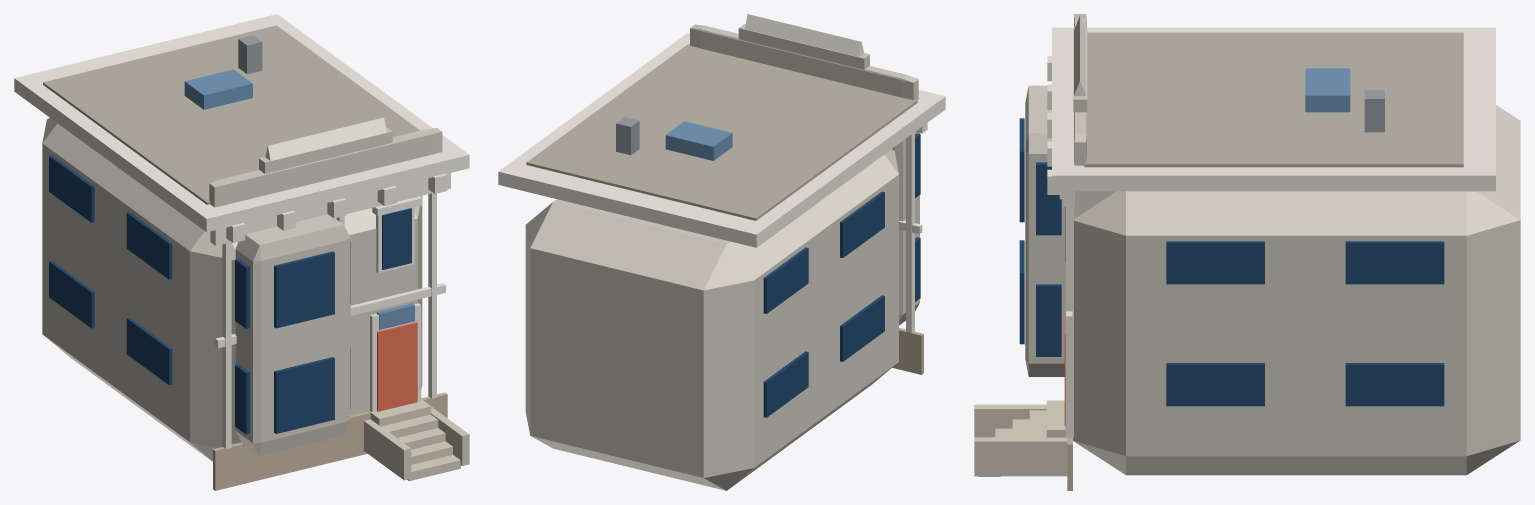
The model's file is stick_w7_false.glb.
3 views of the same model, side by side, from view 1: azimuth 30°, elevation 25°; view 2: azimuth 150°, elevation 25°; view 3: azimuth 270°, elevation 25° (orthographic). The views are drawn at different scales.
Parts seen in each view (by area): view 1: walls, roofslab, corn, bay, fp, bsmt, bw.001, bw, door, frieze, roof, skylt (+23 smaller); view 2: walls, roofslab, corn, fp, roof, skylt, sb.002, sb.006, sb, sb.004, fp2, stick.003 (+4 smaller); view 3: walls, roofslab, corn, bay, sb.003, sb.007, sb.001, sb.005, cheek.001, skylt, stick.002, bws.001 (+8 smaller).
Part boxes in pixels (x1,y1,x2,y2): walls: (42,118,422,461); roofslab: (43,25,419,204); corn: (14,14,469,232); bay: (235,214,350,456); fp: (209,128,442,207); bsmt: (213,392,447,490); bw.001: (274,251,334,328); bw: (274,357,334,433); door: (377,322,417,411); frieze: (210,173,450,245); roof: (265,117,386,160); skylt: (184,69,252,109); walls: (525,149,898,490); roofslab: (526,44,917,220); corn: (498,33,945,247); fp: (690,24,918,100); roof: (745,14,863,56); skylt: (665,121,732,160); sb.002: (763,351,808,417); sb.006: (763,247,808,313); sb: (840,295,884,361); sb.004: (840,191,884,257); fp2: (738,24,869,69); stick.003: (906,132,914,333); walls: (1073,105,1520,475); roofslab: (1084,32,1463,167); corn: (1052,27,1495,191); bay: (1025,85,1065,376); sb.003: (1345,363,1444,406); sb.007: (1345,241,1444,284); sb.001: (1166,363,1264,406); sb.005: (1166,241,1264,284); cheek.001: (974,437,1067,476); skylt: (1305,68,1350,112); stick.002: (1065,207,1073,438); bws.001: (1036,284,1061,356).
Bounding box in the file's own units: 8.6 × 10.22 × 13.4.
